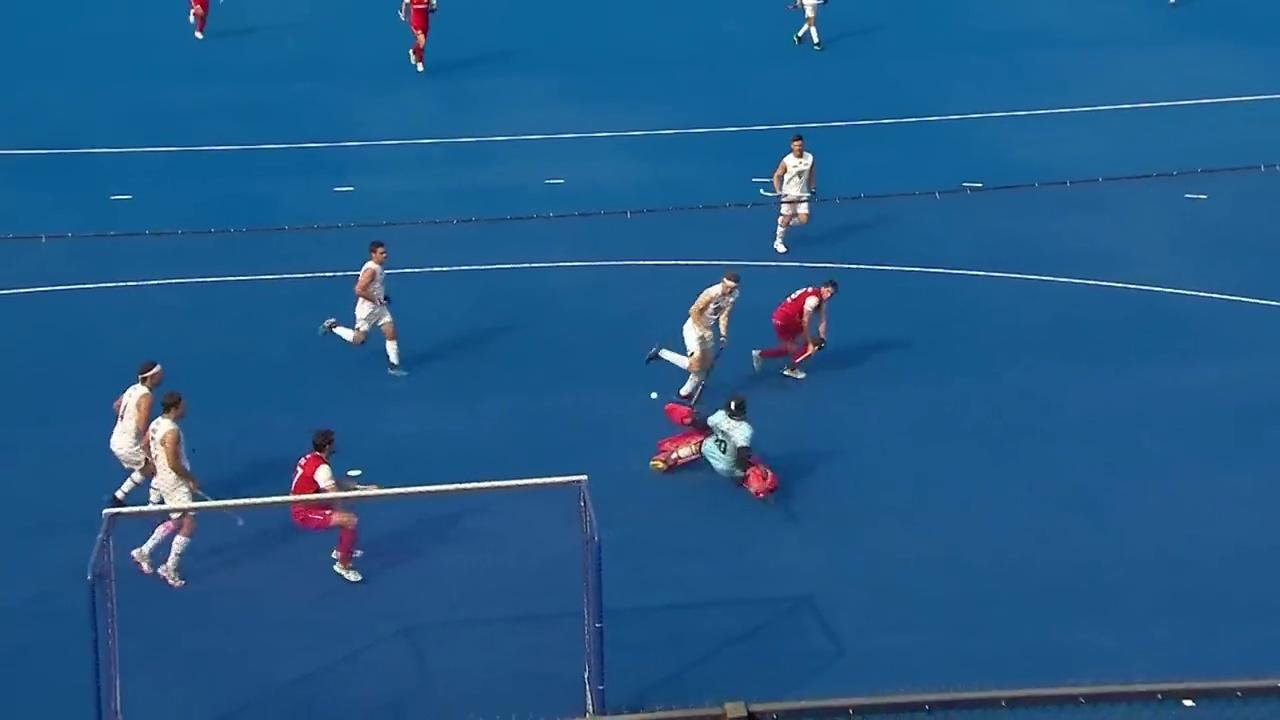ball: (645, 384, 665, 404)
